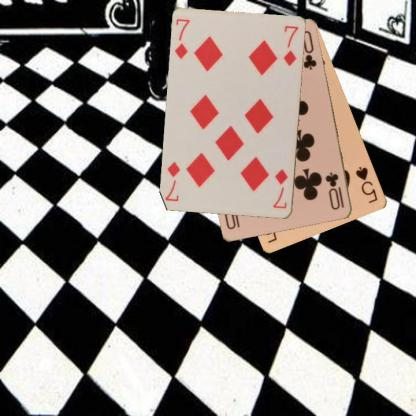10c: (323, 170, 345, 211)
5s: (353, 164, 380, 204)
7d: (172, 16, 191, 61), (271, 167, 290, 210)
